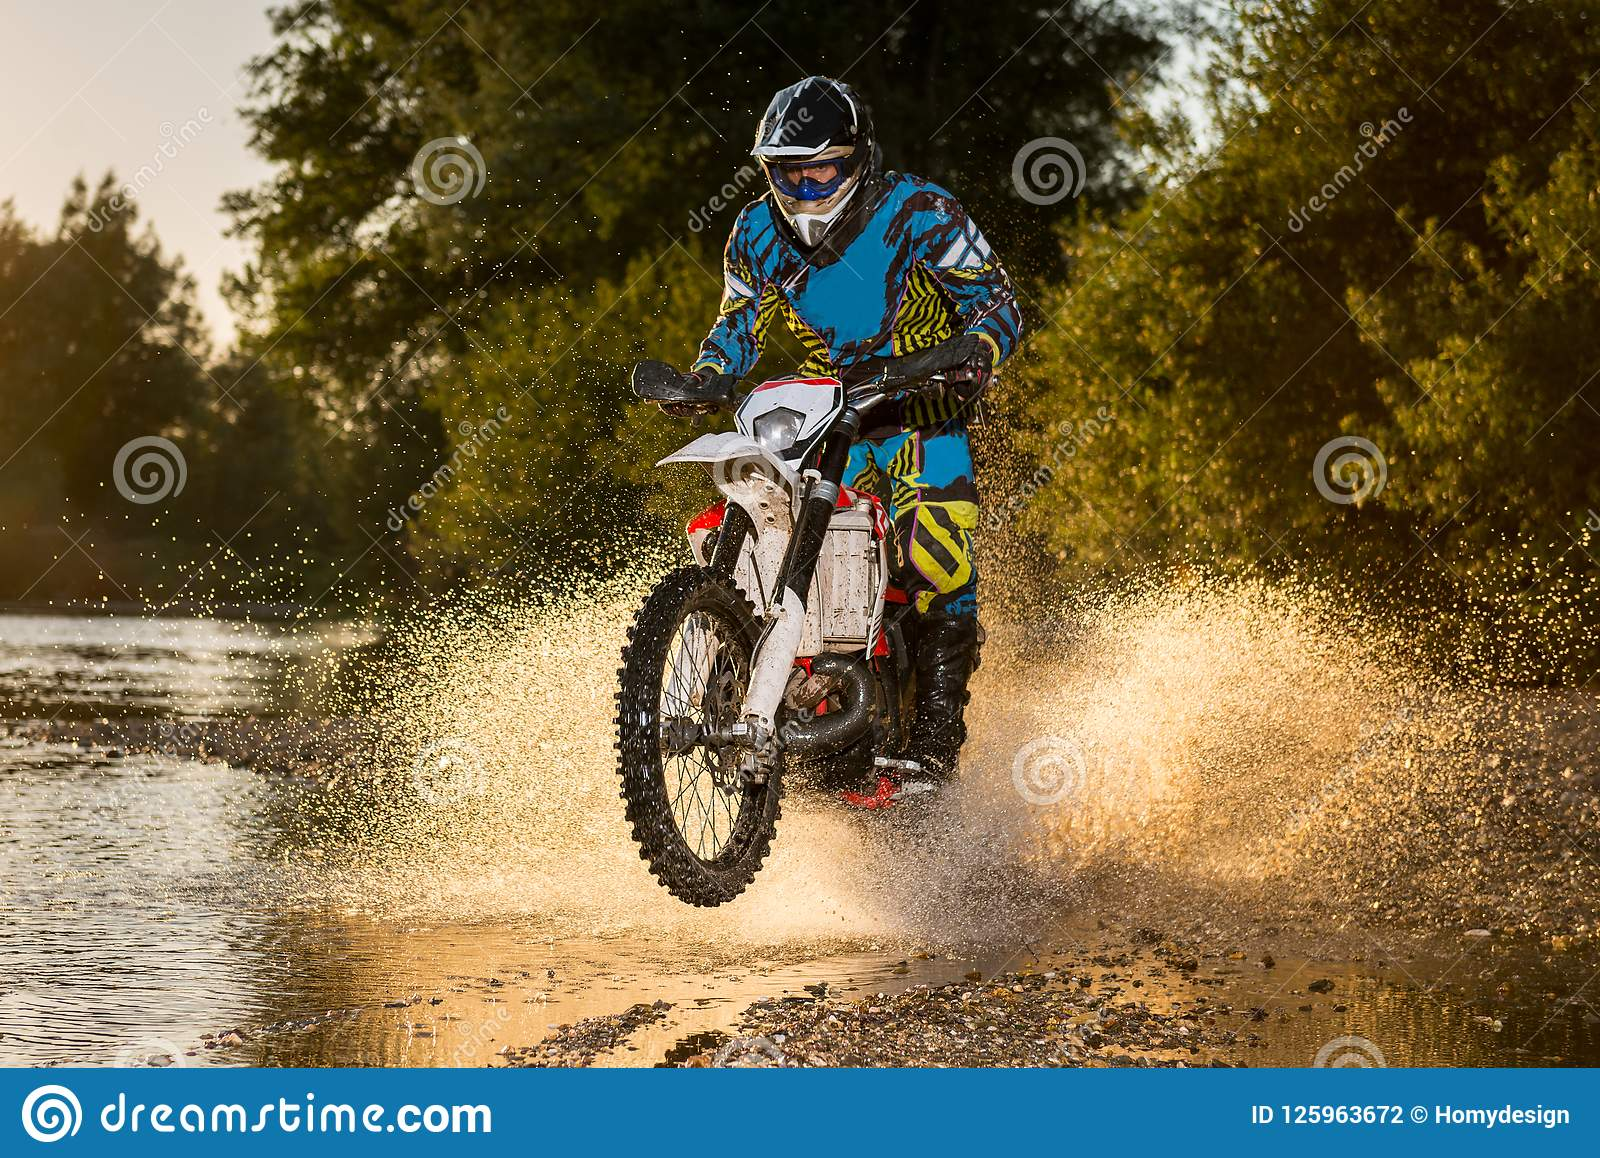helmet: (760, 87, 876, 242)
